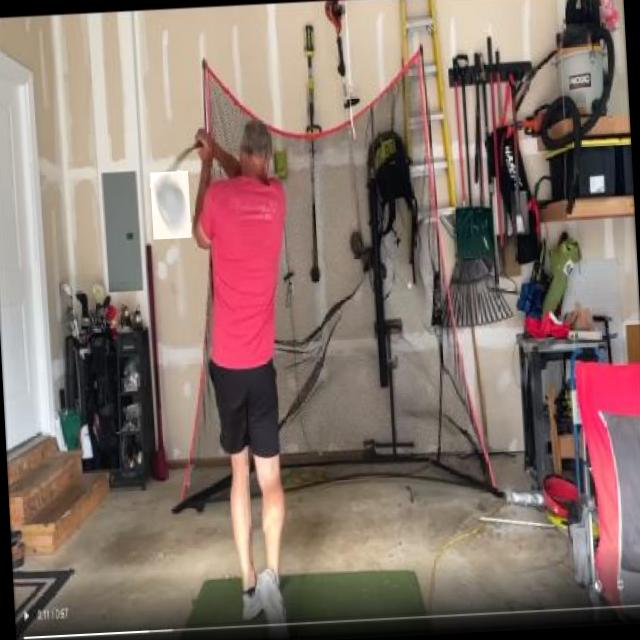club head: (150, 170, 192, 240)
